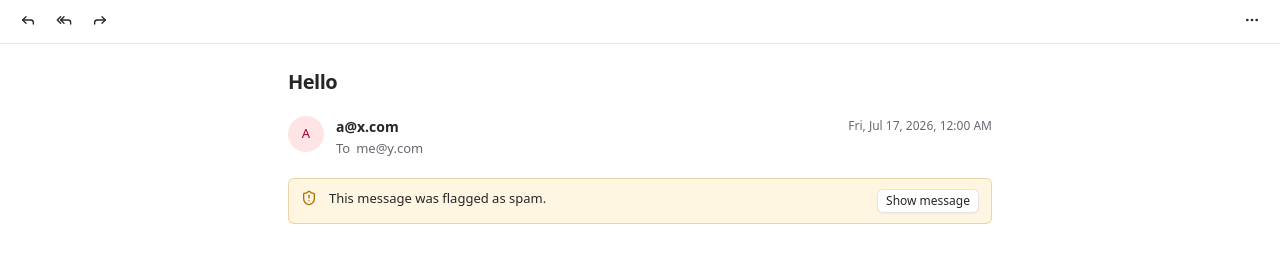
Scenario: EmailReader — quarantine gating › hides a spam body behind a reveal, then shows it through the same render path
Check: the text "This message was flagged as spam." is shown, box [329,189,546,207]
Check: the text "the spam body" is not shown
Click the button "Show message" at (928, 201), box [877,189,979,213]
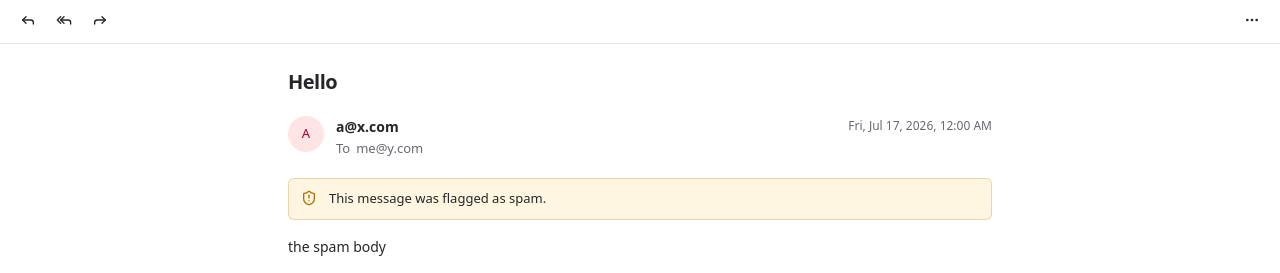
Check: the text "the spam body" is shown, box [288,236,386,256]
